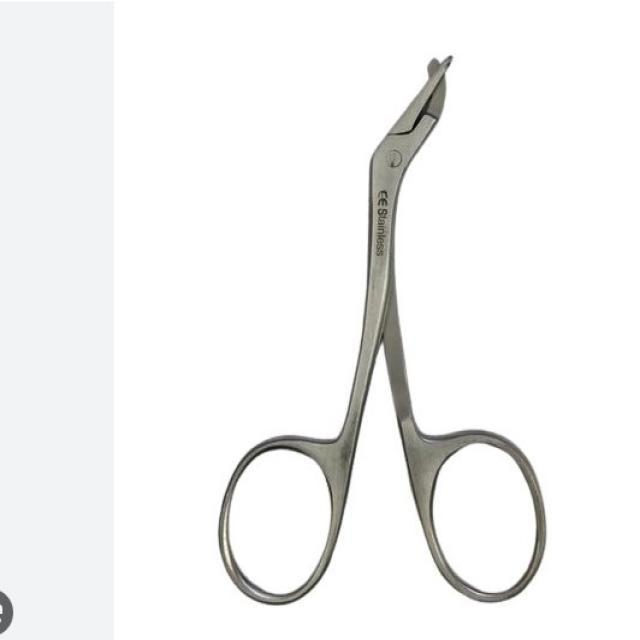Stapler Remover: (213, 36, 552, 612)
